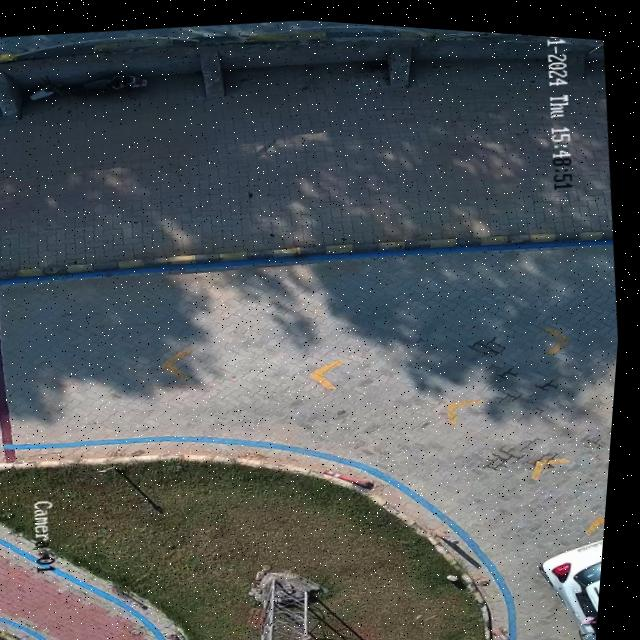car: (547, 529, 611, 637)
